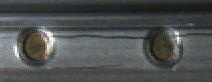joints: (13, 22, 55, 65), (144, 27, 184, 69)
